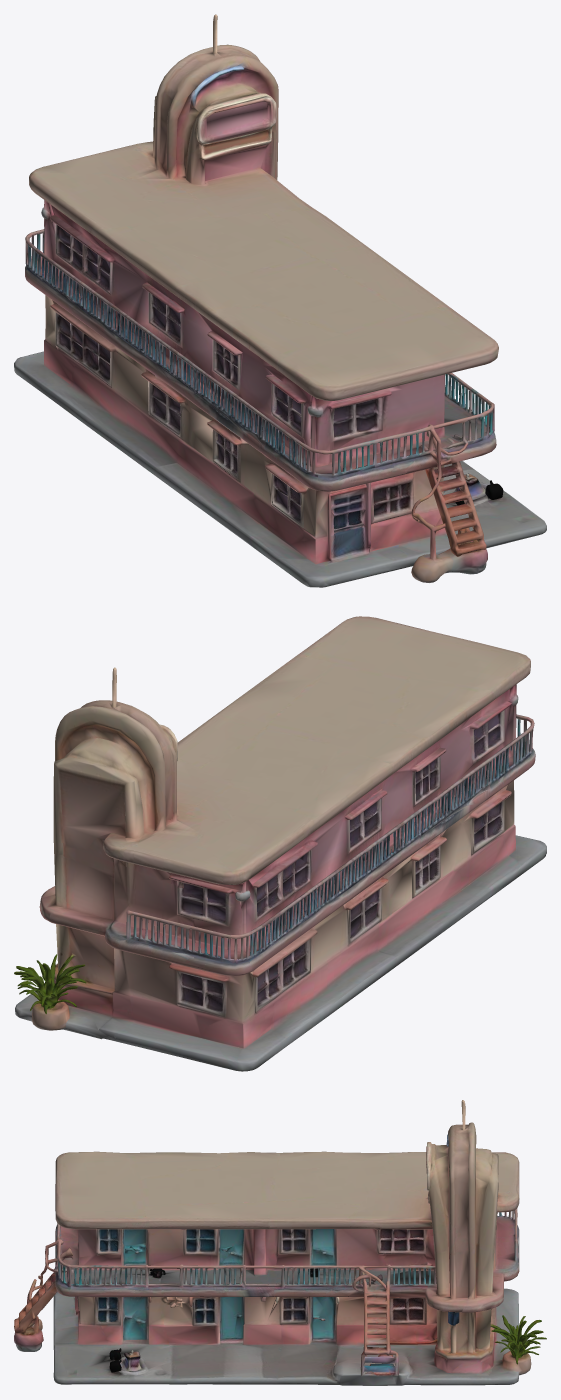
Rendered from strip-motel-diet.glb.
The picture shows the model from 3 angles, top to bottom: view 1: azimuth 30°, elevation 25°; view 2: azimuth 150°, elevation 25°; view 3: azimuth 270°, elevation 25°; orthographic projection. The views are drawn at different scales.
Visible parts, largest first — view 1: tripo_node_3fdf0007-b0df-4a62-8072-22a7c9d7ac1d; view 2: tripo_node_3fdf0007-b0df-4a62-8072-22a7c9d7ac1d; view 3: tripo_node_3fdf0007-b0df-4a62-8072-22a7c9d7ac1d.
Boxes of the visible parts, box(x1,y1,x2,y2) form: tripo_node_3fdf0007-b0df-4a62-8072-22a7c9d7ac1d: box(14, 14, 546, 587); tripo_node_3fdf0007-b0df-4a62-8072-22a7c9d7ac1d: box(14, 616, 546, 1071); tripo_node_3fdf0007-b0df-4a62-8072-22a7c9d7ac1d: box(14, 1100, 546, 1385).
Bounding box in the file's own units: 0.4203 × 0.5399 × 0.9998.
Materials: 1 (1 with a texture image).
